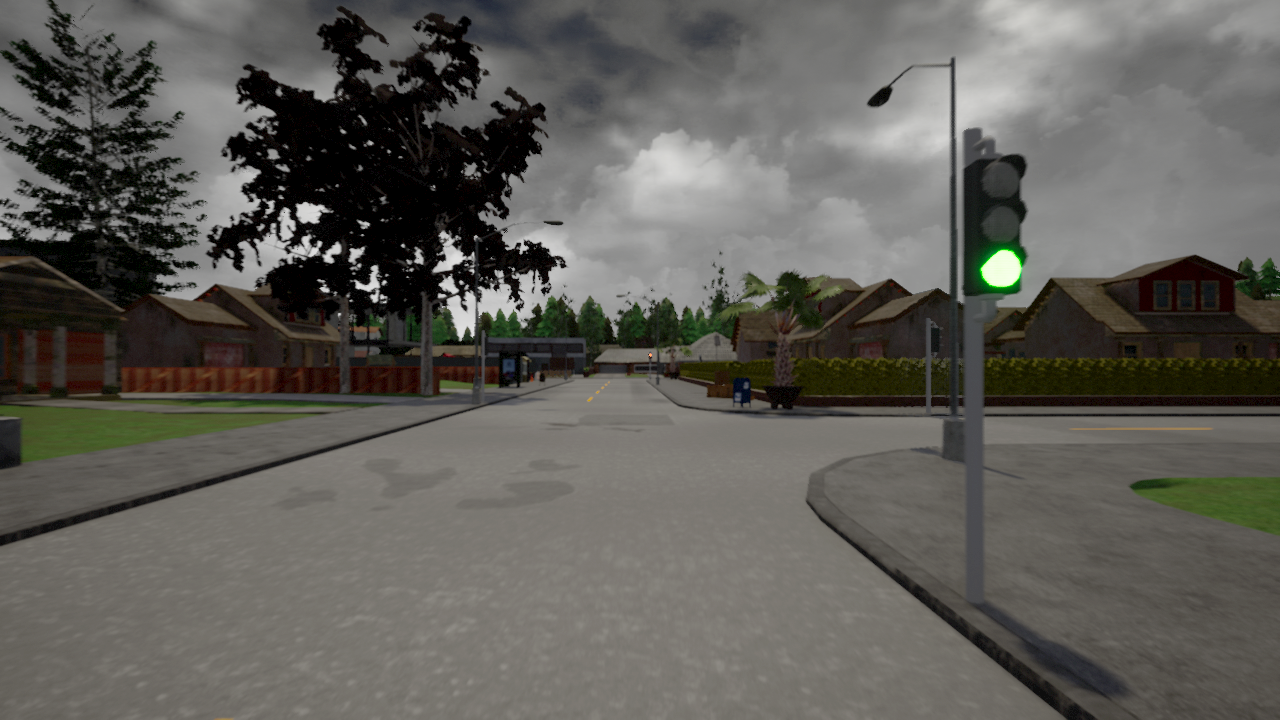green: (962, 152, 1031, 301)
